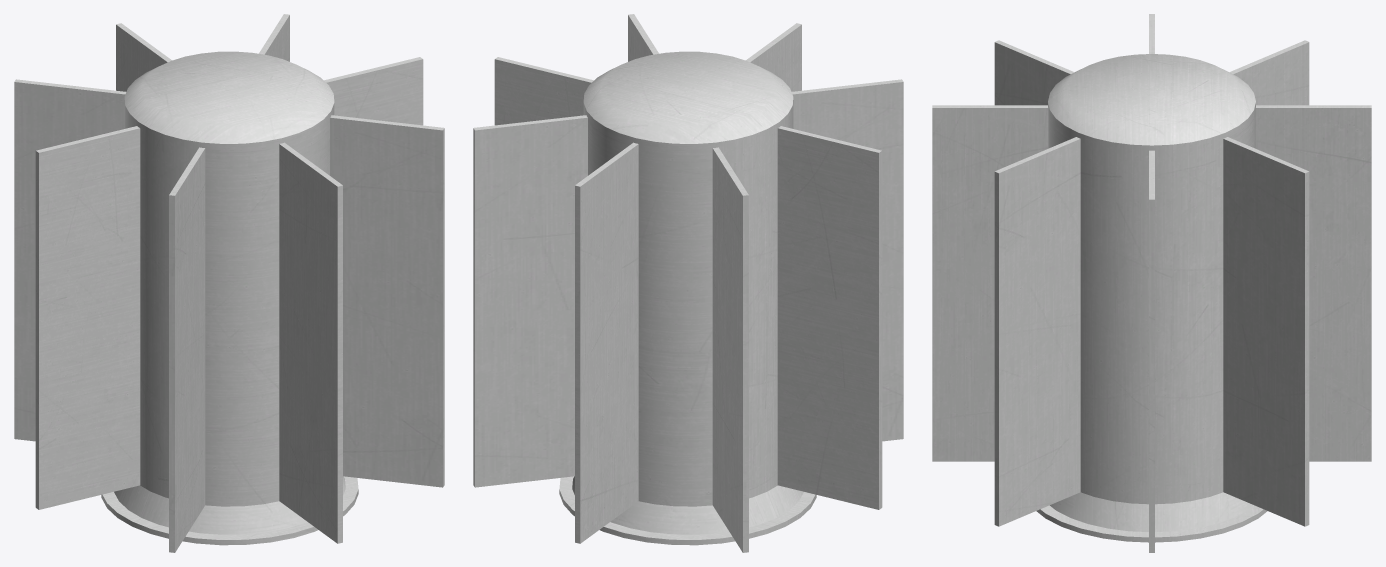
Rendered from rtg.obj.
3 views of the same model, side by side, from view 1: azimuth 30°, elevation 25°; view 2: azimuth 150°, elevation 25°; view 3: azimuth 270°, elevation 25° (orthographic).
Parts seen in each view (by area): view 1: Rtg1; view 2: Rtg1; view 3: Rtg1.
Part boxes in pixels (<box>): Rtg1: <box>14,14,444,552</box>; Rtg1: <box>473,14,903,552</box>; Rtg1: <box>932,14,1371,552</box>.
Bounding box in the file's own units: 3 × 3 × 3.
Materials: 1 (1 with a texture image).
